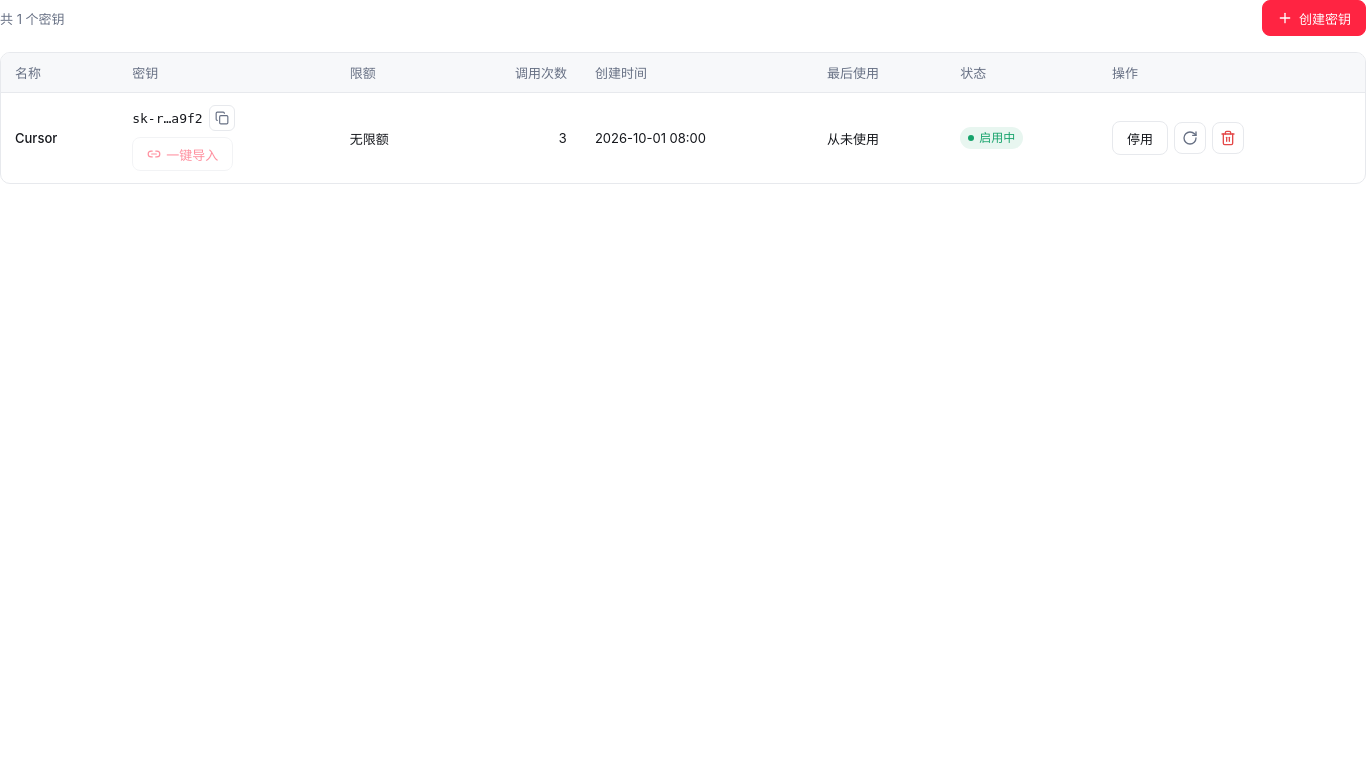
ApiKeysView › 创建成功后展示完整密钥，可关闭并提示可在列表中查看
Click the button with test id "open-create" at [1314, 18], box [1262, 0, 1365, 36]
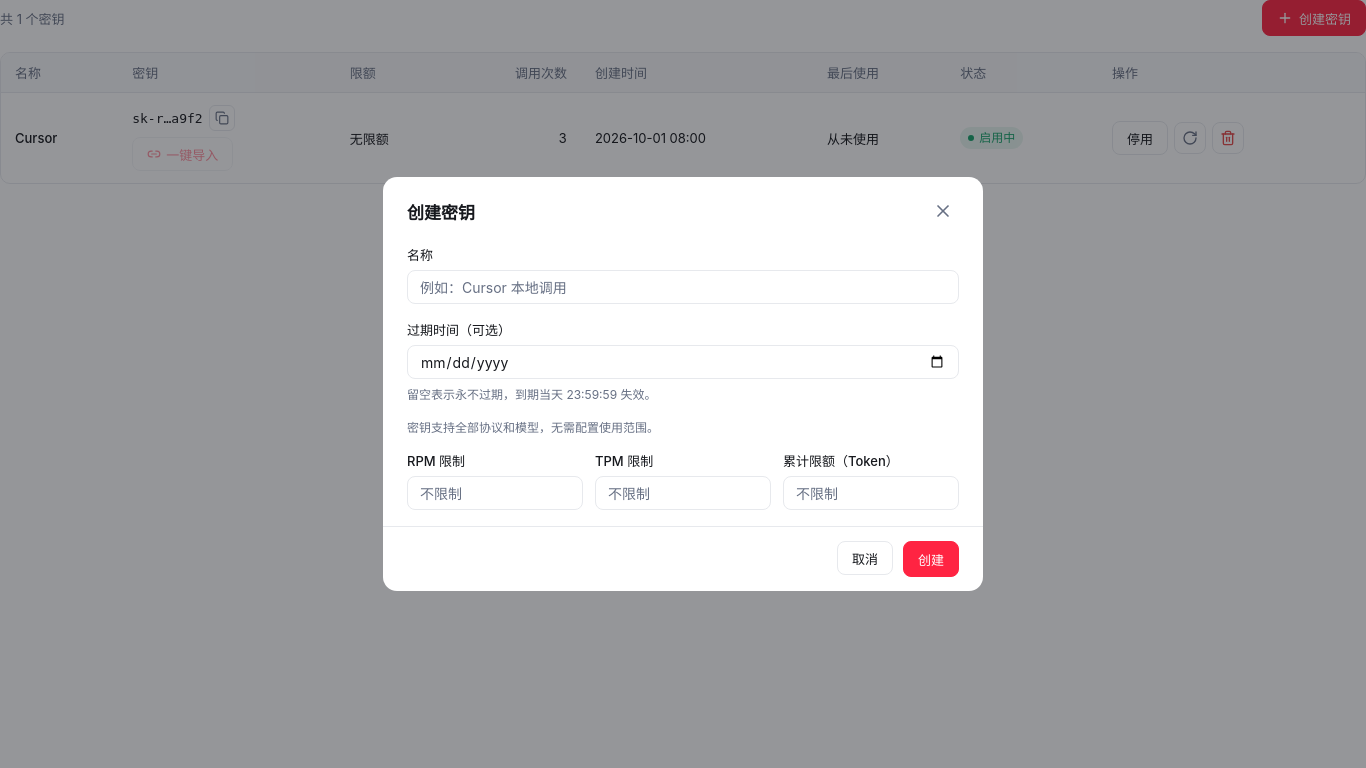
Type "New" into the field with id "ck-name" at [683, 287], box [407, 270, 959, 304]
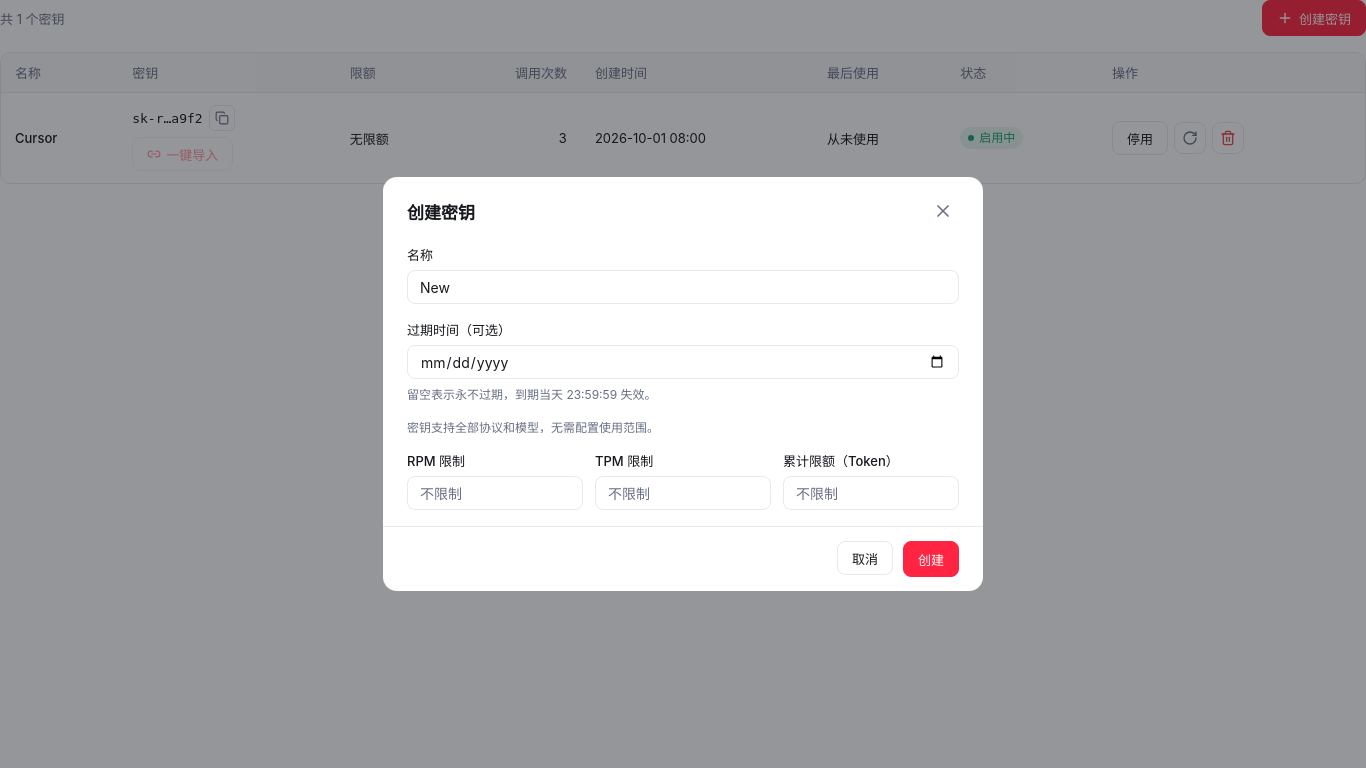
Submit the form with id "create-key-form", box [407, 245, 959, 510]
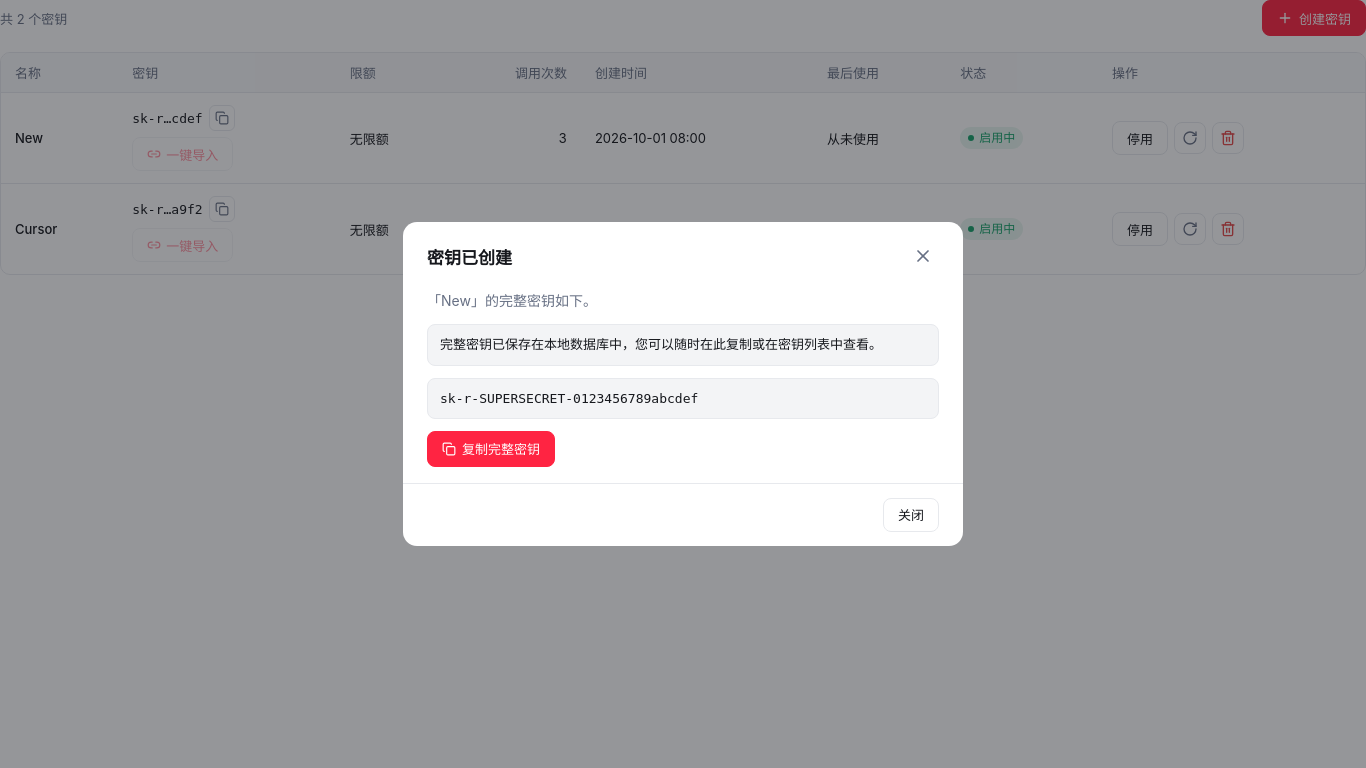
Expected: the text with test id "secret-value" reads "sk-r-SUPERSECRET-0123456789abcdef", [440, 391, 698, 406]
Expected: the text "完整密钥已保存在本地数据库中" is shown, [440, 336, 882, 352]
Click the button with test id "close-secret" at [911, 515], box [883, 498, 939, 532]
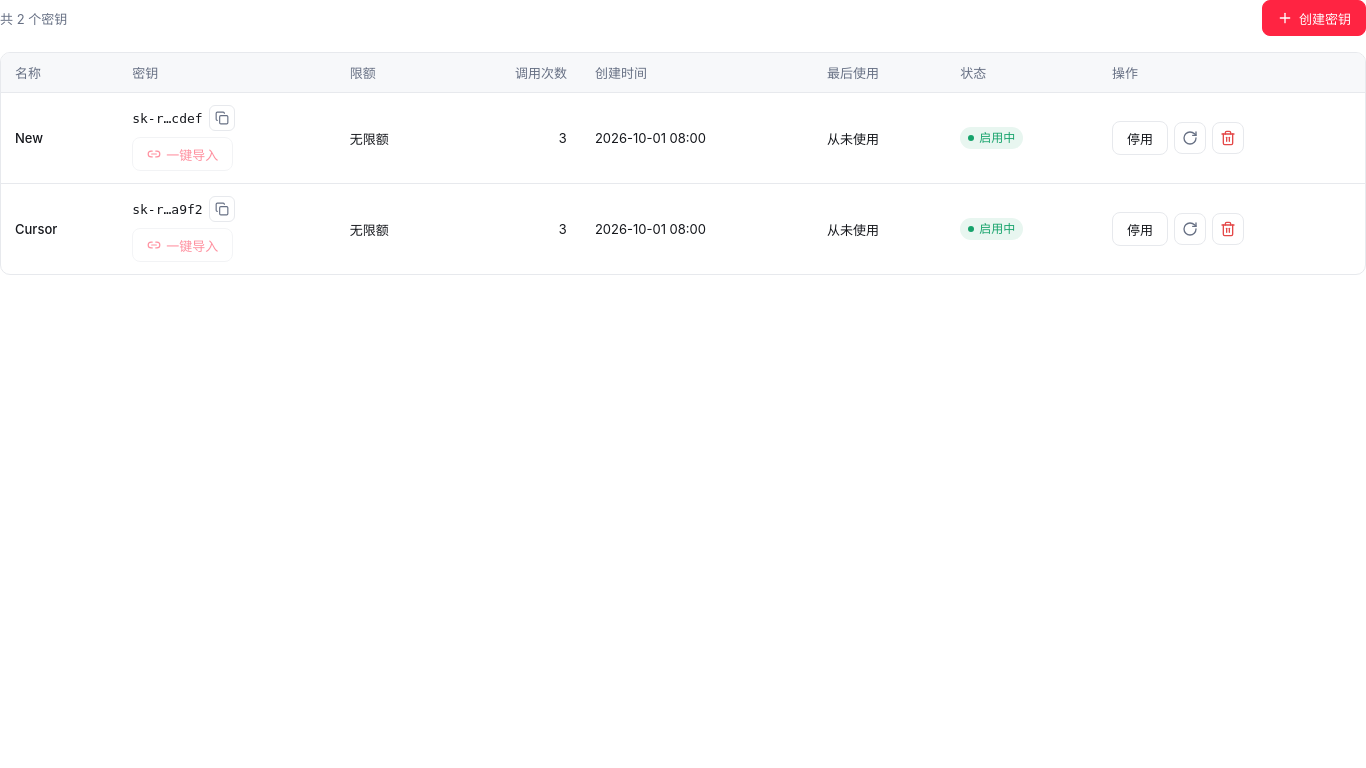
Expected: the text with test id "secret-value" is gone
